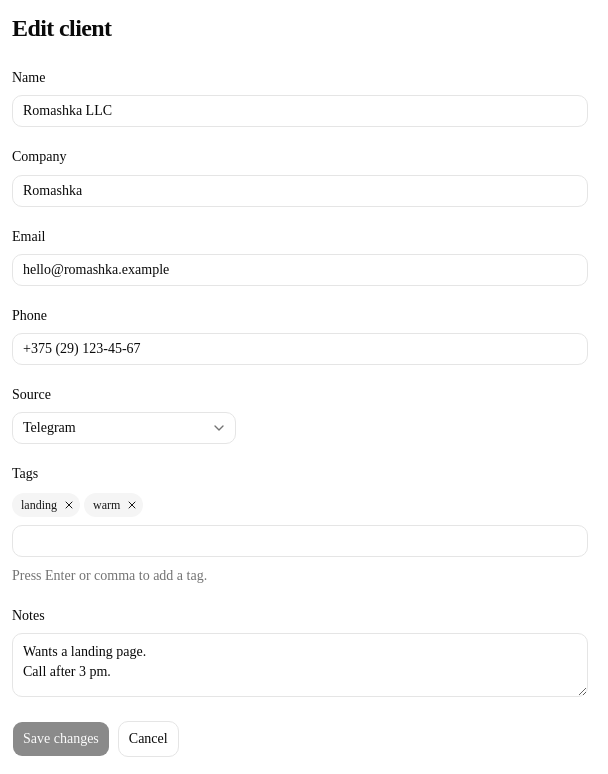
Scenario: client form › edit › should keep Save changes disabled until a field changes
Check: the button "Save changes" is disabled, box [12,721,110,757]
Step 1. Type " Group" into the field labelled "Company" → (300, 190), box [12,174,588,206]
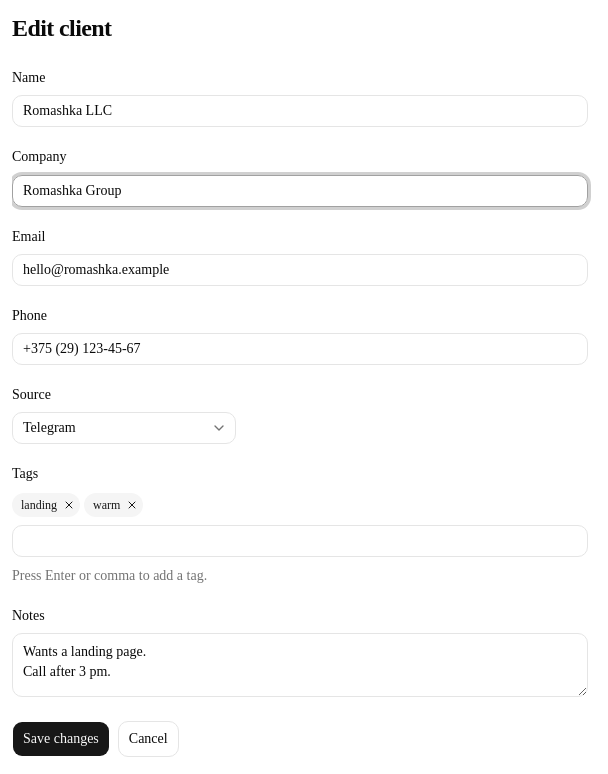
Check: the button "Save changes" is enabled, box [12,721,110,757]
